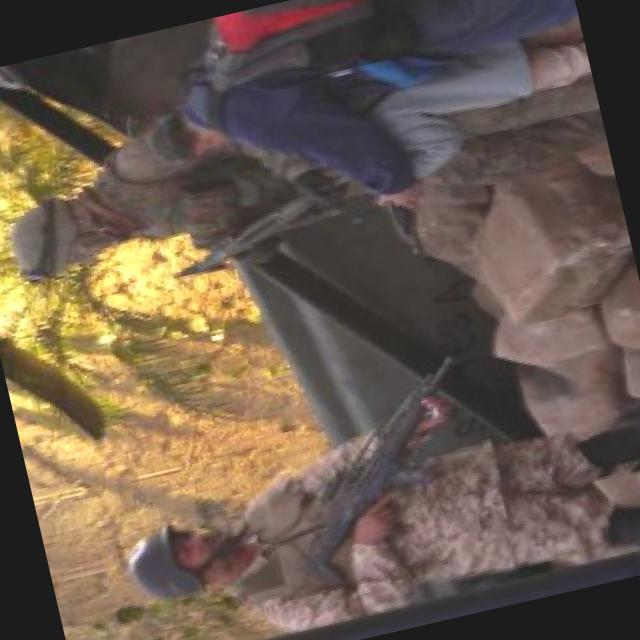long weapon: (270, 339, 507, 580)
